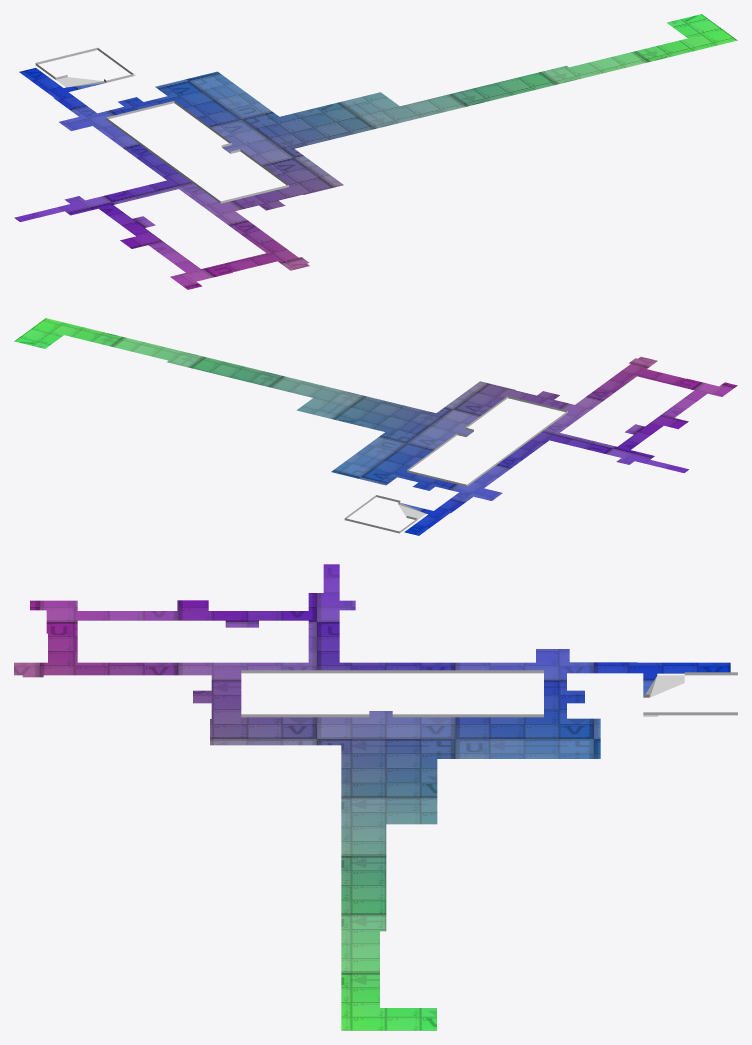
Rendered from Floor6Roof.fbx.
The picture shows the model from 3 angles, top to bottom: view 1: azimuth 30°, elevation 25°; view 2: azimuth 150°, elevation 25°; view 3: azimuth 270°, elevation 25°; orthographic projection. The views are drawn at different scales.
Visible parts, largest first — view 1: Floor6Roof; view 2: Floor6Roof; view 3: Floor6Roof.
Boxes of the visible parts, left/top/right/bottom form: Floor6Roof: left=14, top=14, right=737, bottom=289; Floor6Roof: left=14, top=318, right=737, bottom=535; Floor6Roof: left=14, top=564, right=737, bottom=1030.
Bounding box in the file's own units: 3822 × 11.6 × 2507.
